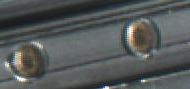joints: (5, 38, 51, 82), (121, 16, 162, 59)
